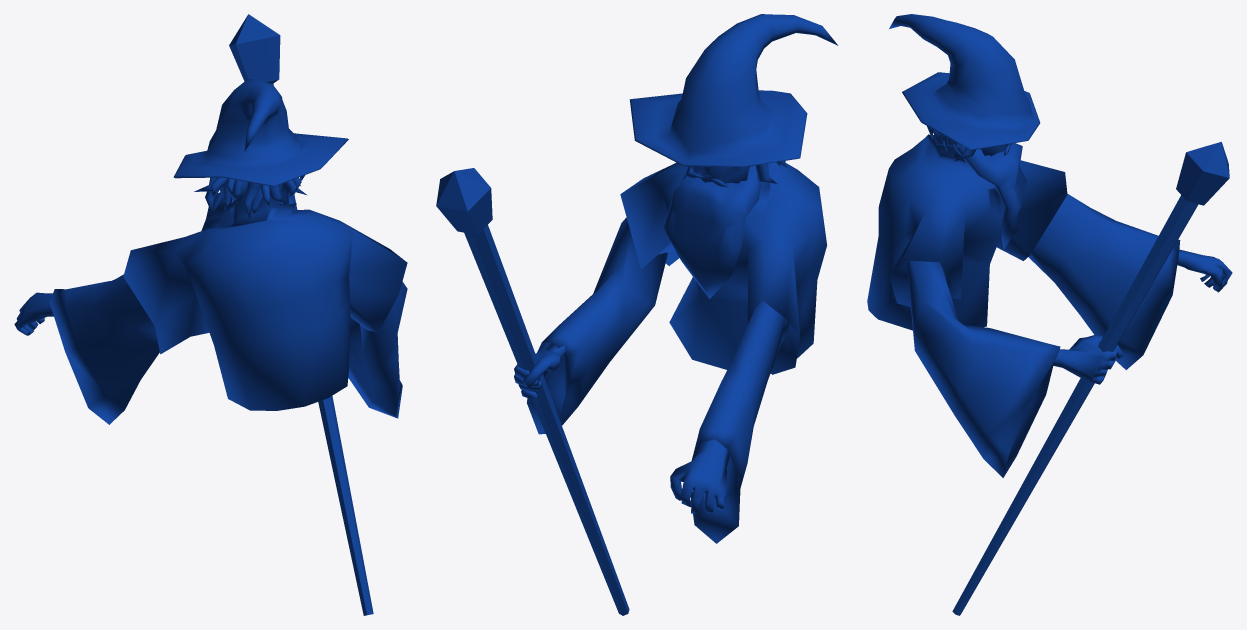
The model's file is top_000044.obj.
The picture shows the model from 3 angles, left to right: view 1: azimuth 30°, elevation 25°; view 2: azimuth 150°, elevation 25°; view 3: azimuth 270°, elevation 25°; orthographic projection. The views are drawn at different scales.
Visible parts, largest first — view 1: Wizard.002_Plane.002; view 2: Wizard.002_Plane.002; view 3: Wizard.002_Plane.002.
Boxes of the visible parts, x1,y1,x2,y2 form: Wizard.002_Plane.002: (14,14,407,615); Wizard.002_Plane.002: (436,14,838,615); Wizard.002_Plane.002: (867,14,1232,615).
Size of the model in its own units: 0.9411 by 1.78 by 1.09.
